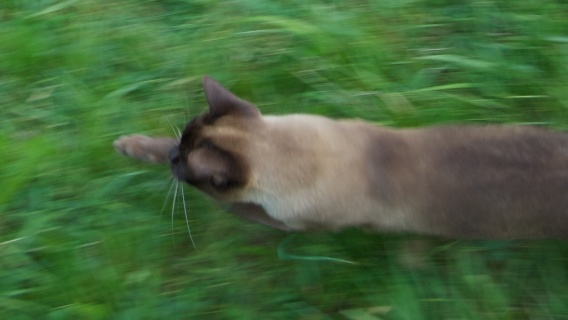Cat: (109, 75, 568, 238)
